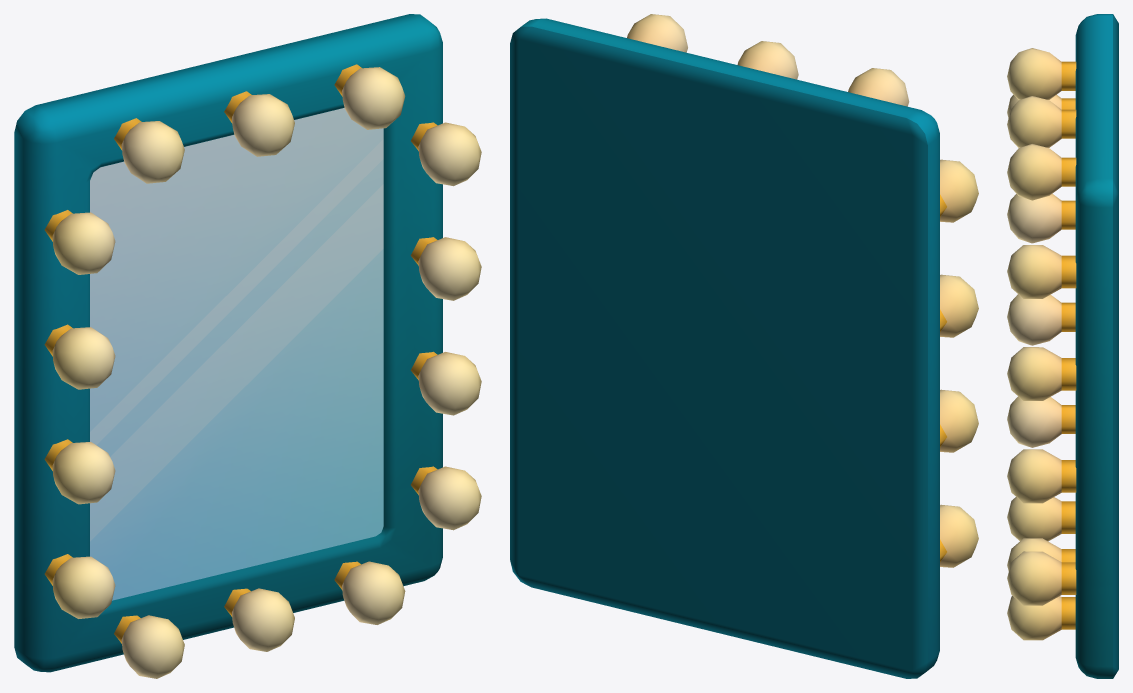
Rendered from Mirror_01.glb.
3 views of the same model, side by side, from view 1: azimuth 30°, elevation 25°; view 2: azimuth 150°, elevation 25°; view 3: azimuth 270°, elevation 25° (orthographic). The views are drawn at different scales.
Parts seen in each view (by area): view 1: Mirror_01; view 2: Mirror_01; view 3: Mirror_01.
Boxes of the visible parts, x1=… form: Mirror_01: x1=14, y1=14, x2=481, y2=678; Mirror_01: x1=510, y1=14, x2=978, y2=678; Mirror_01: x1=1007, y1=14, x2=1118, y2=678.
Size of the model in its own units: 0.6794 by 0.8687 by 0.1766.
Materials: 1 (1 with a texture image).
